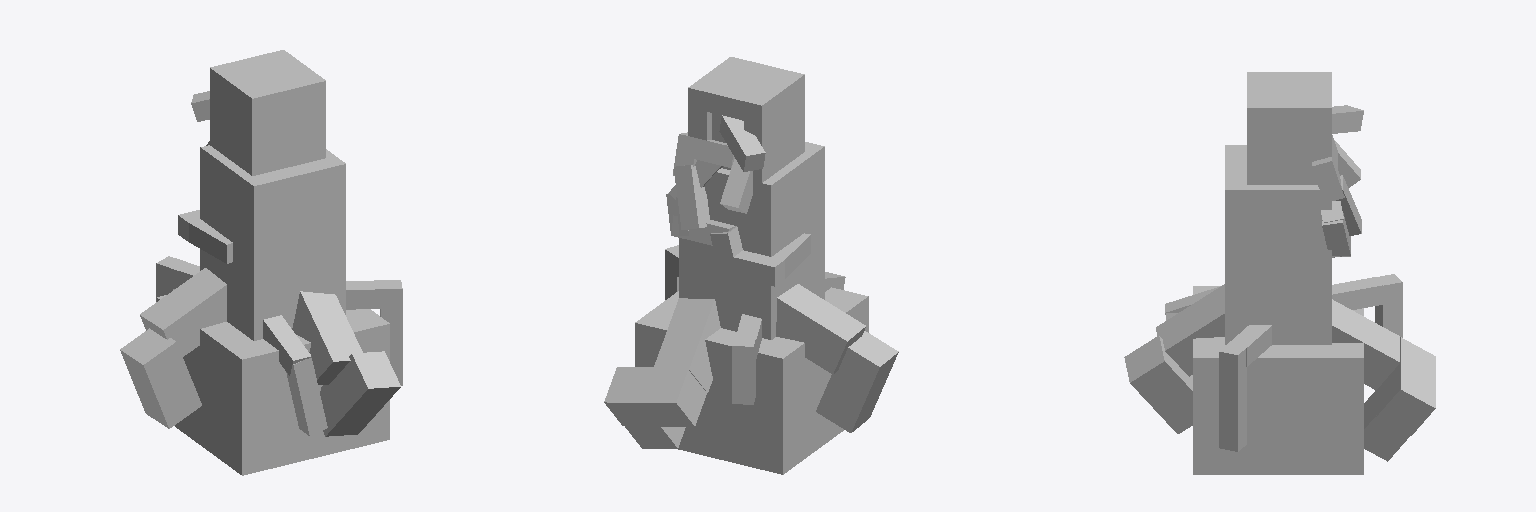
Rendered from hasturstatue.obj.
3 views of the same model, side by side, from view 1: azimuth 30°, elevation 25°; view 2: azimuth 150°, elevation 25°; view 3: azimuth 270°, elevation 25° (orthographic).
Parts seen in each view (by area): view 1: body, base, head1, tentacle20, tentacle22, tentacle16, tentacle17, head3, head2, head4, tentacle23, tentacle24 (+5 smaller); view 2: base, body, tentacle13, head1, tentacle20, tentacle16, tentacle12, head3, head2, tentacle5, tentacle21, tentacle10 (+10 smaller); view 3: base, body, head2, tentacle13, tentacle22, tentacle12, tentacle17, tentacle24, tentacle14, head3, tentacle15, tentacle21 (+7 smaller).
Part boxes in pixels (x1,y1,x2,y2): body: (200, 145, 345, 340); base: (157, 295, 389, 475); head1: (210, 63, 270, 175); tentacle20: (120, 328, 201, 428); tentacle22: (320, 351, 400, 436); tentacle16: (140, 268, 226, 356); tentacle17: (292, 291, 362, 384); head3: (229, 54, 307, 113); head2: (266, 50, 325, 162); head4: (271, 105, 307, 171); tentacle23: (286, 358, 327, 435); tentacle24: (380, 280, 402, 385); base: (635, 287, 868, 474); body: (679, 142, 824, 339); tentacle13: (604, 367, 706, 426); head1: (744, 70, 804, 182); tentacle20: (816, 331, 898, 432); tentacle16: (776, 284, 865, 373); tentacle12: (654, 298, 720, 392); head3: (707, 61, 785, 120); head2: (688, 57, 748, 140); tentacle5: (674, 165, 709, 229); tentacle21: (732, 337, 755, 404); tentacle10: (719, 250, 784, 286); base: (1193, 286, 1363, 474); body: (1225, 145, 1331, 344); head2: (1247, 99, 1331, 184); tentacle13: (1376, 337, 1435, 435); tentacle22: (1124, 336, 1192, 433); tentacle12: (1332, 299, 1401, 389); tentacle17: (1156, 284, 1224, 376); tentacle24: (1219, 344, 1246, 451); tentacle14: (1364, 390, 1409, 461); head3: (1247, 81, 1331, 98); tentacle15: (1332, 277, 1384, 309); tentacle21: (1375, 274, 1402, 337).
Bounding box in the file's own units: 0.8385 × 1.12 × 0.9111.